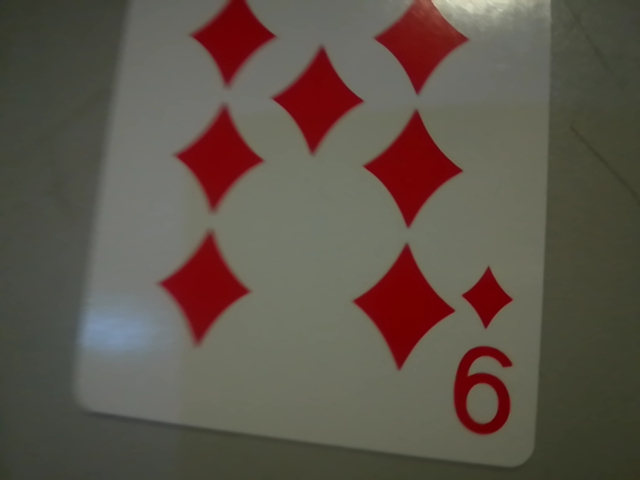fk 9: (440, 255, 534, 450)
